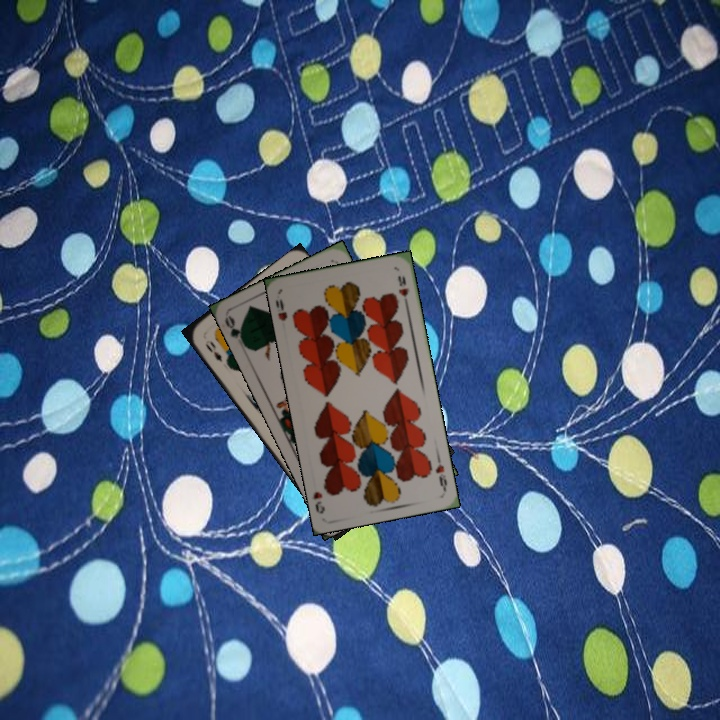EO: (201, 336, 225, 364)
GO: (220, 313, 250, 350)
H9: (431, 453, 450, 493), (271, 295, 290, 323)
